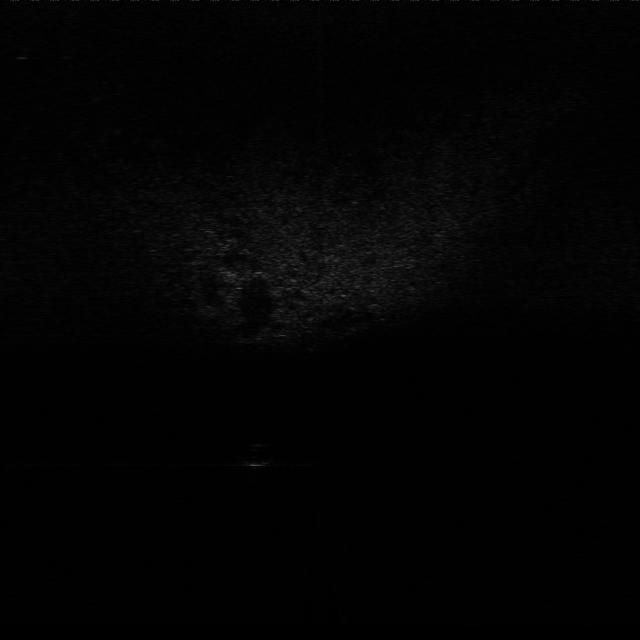ball: (241, 438, 283, 468)
